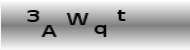3: (26, 9, 41, 23)
A: (40, 24, 59, 38)
W: (65, 11, 90, 27)
q: (94, 22, 108, 38)
t: (116, 9, 128, 23)
